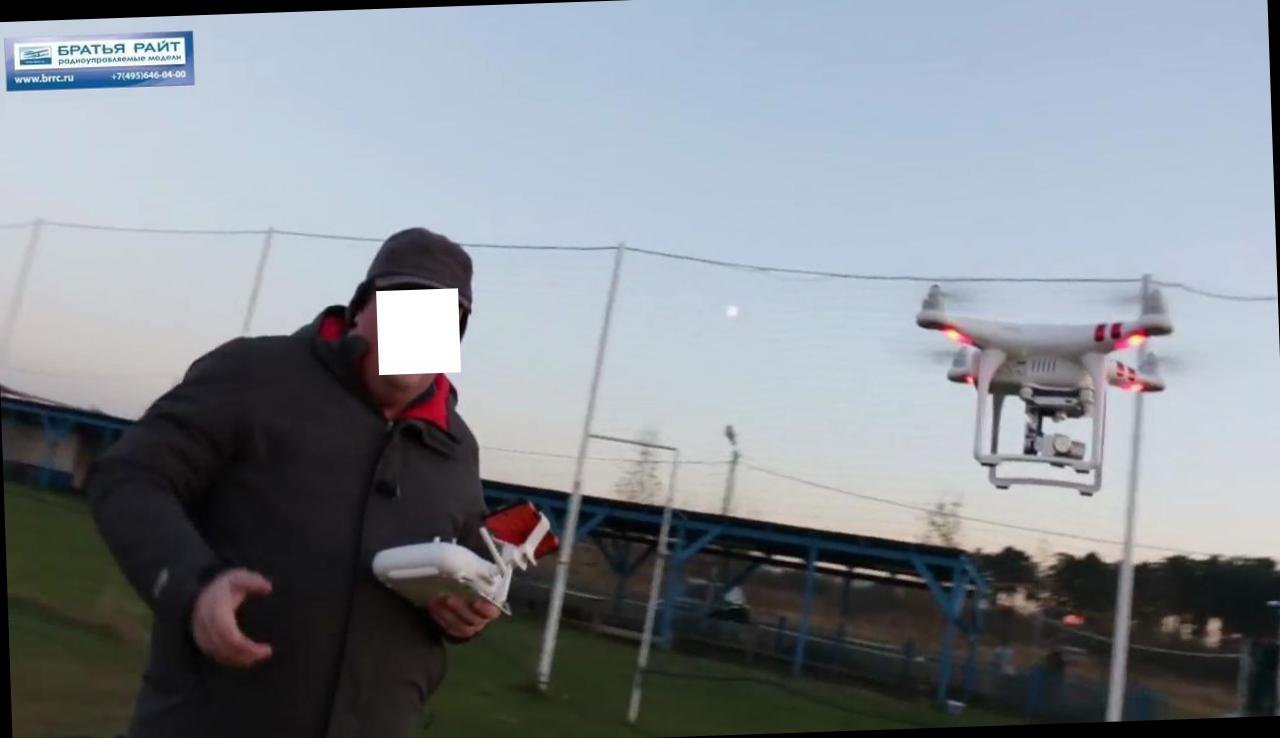drone: (906, 270, 1186, 500)
